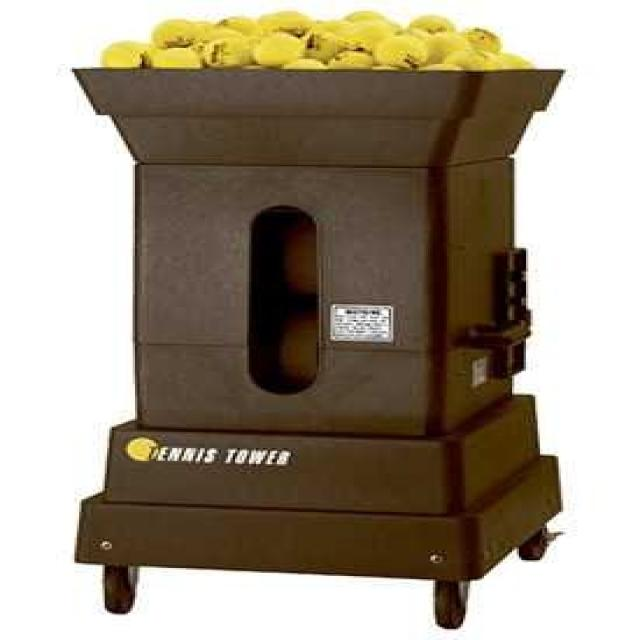Tennis_Ball: (372, 36, 426, 68), (201, 38, 253, 67), (151, 46, 204, 70), (258, 33, 301, 62), (424, 30, 460, 63), (151, 20, 196, 46), (257, 10, 318, 28), (106, 42, 146, 68), (447, 49, 490, 72), (457, 28, 498, 52), (353, 23, 397, 43), (304, 30, 342, 52), (218, 16, 264, 34), (282, 56, 328, 73), (413, 13, 452, 32), (492, 54, 534, 70), (346, 10, 387, 23), (333, 54, 368, 69)
